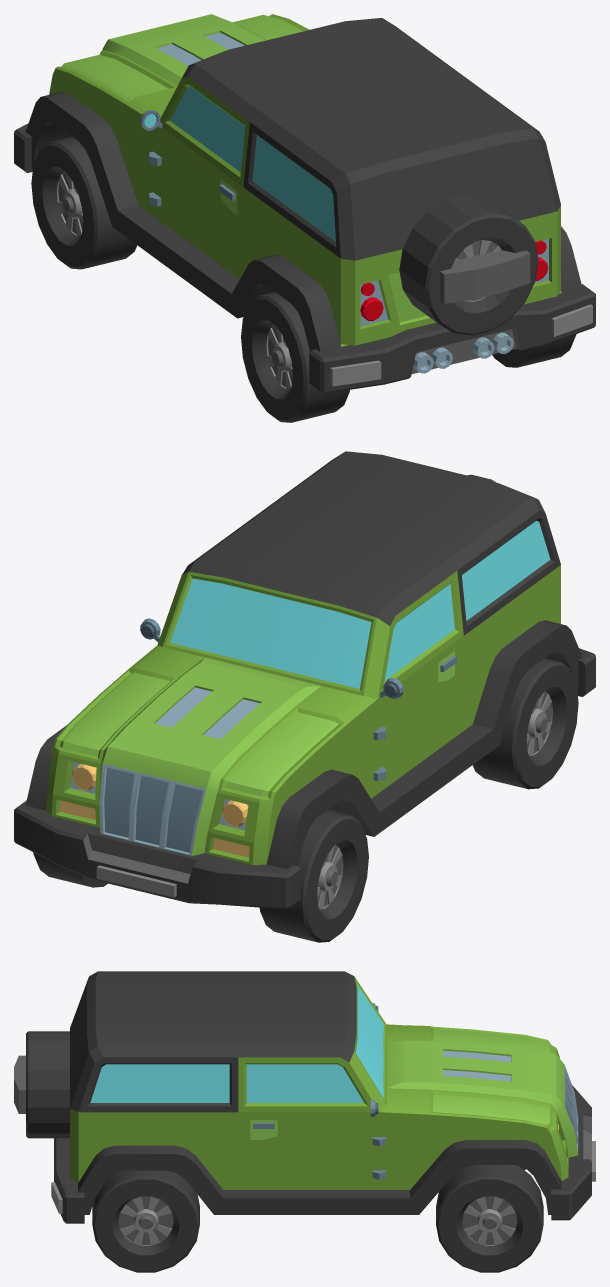
Rendered from Car_2.fbx.
3 views of the same model, one above another, from view 1: azimuth 30°, elevation 25°; view 2: azimuth 150°, elevation 25°; view 3: azimuth 270°, elevation 25° (orthographic). The views are drawn at different scales.
Parts seen in each view (by area): view 1: Body, Door_Left, Wheel_ForwardLeft, Wheel_BackLeft, Hood, Wheel_BackRight; view 2: Body, Door_Left, Hood, Wheel_ForwardLeft, Wheel_BackLeft, Wheel_ForwardRight; view 3: Body, Door_Right, Wheel_ForwardRight, Wheel_BackRight, Hood.
Boxes of the visible parts, <box> form: Body: <box>14,14,595,393</box>; Door_Left: <box>140,76,249,266</box>; Wheel_ForwardLeft: <box>31,136,137,269</box>; Wheel_BackLeft: <box>241,291,349,422</box>; Hood: <box>122,19,261,74</box>; Wheel_BackRight: <box>492,334,576,367</box>; Body: <box>14,451,595,909</box>; Door_Left: <box>373,571,463,786</box>; Hood: <box>122,664,298,759</box>; Wheel_ForwardLeft: <box>259,810,368,942</box>; Wheel_BackLeft: <box>472,658,578,789</box>; Wheel_ForwardRight: <box>33,852,107,887</box>; Body: <box>14,971,595,1223</box>; Door_Right: <box>238,1057,385,1184</box>; Wheel_ForwardRight: <box>436,1165,543,1272</box>; Wheel_BackRight: <box>92,1170,199,1272</box>; Hood: <box>406,1042,539,1091</box>.
Size of the model in its own units: 2.13 by 4.74 by 1.91.
